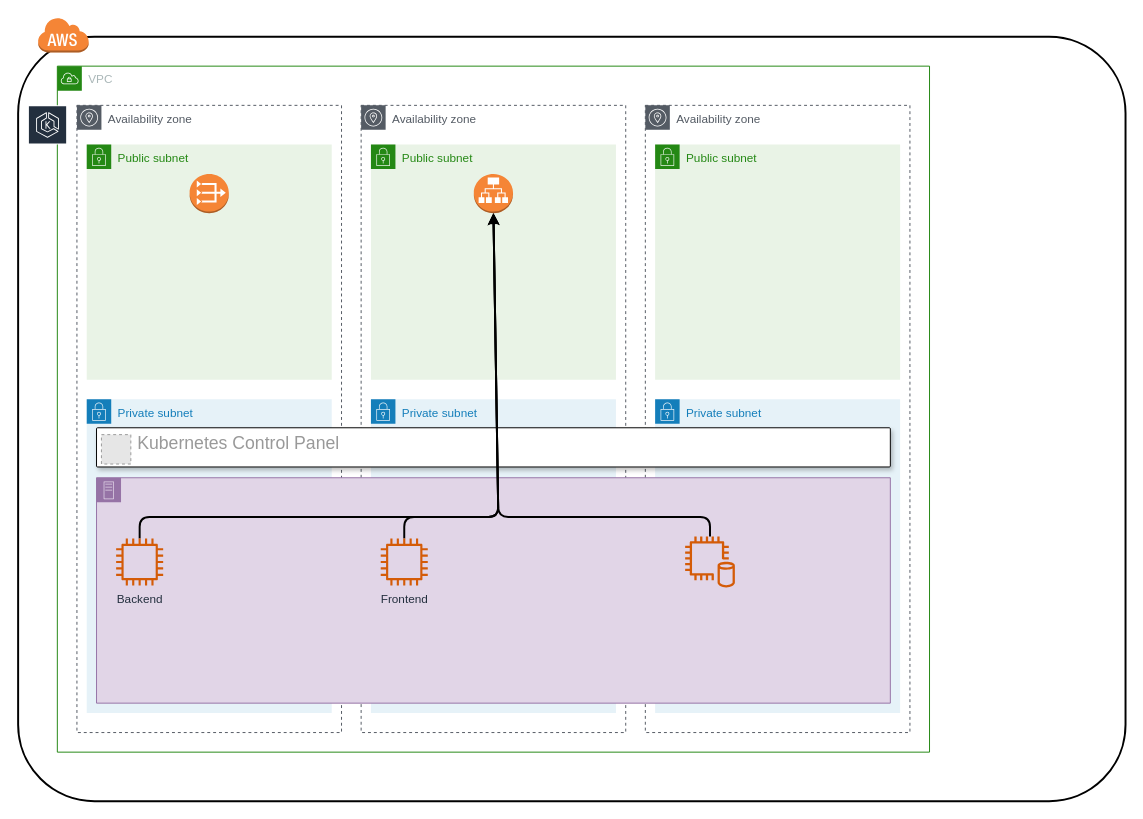
Image size: 1143x819. Some labels were removed from this diagram. Grey dashed boxes stand in for pictures. Each missing label, with the centre of its shape:
Main Node Group: point (493, 590)
MySQL DB: point (709, 561)
